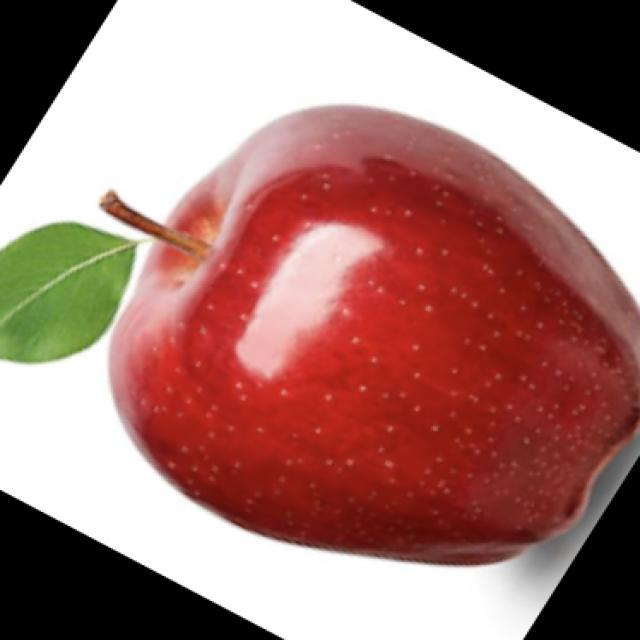Fresh Apple: (102, 100, 640, 573)
